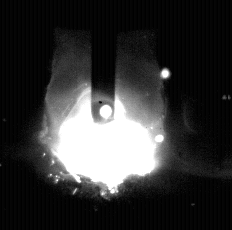arame: (92, 0, 116, 124)
poca: (41, 0, 166, 230)
